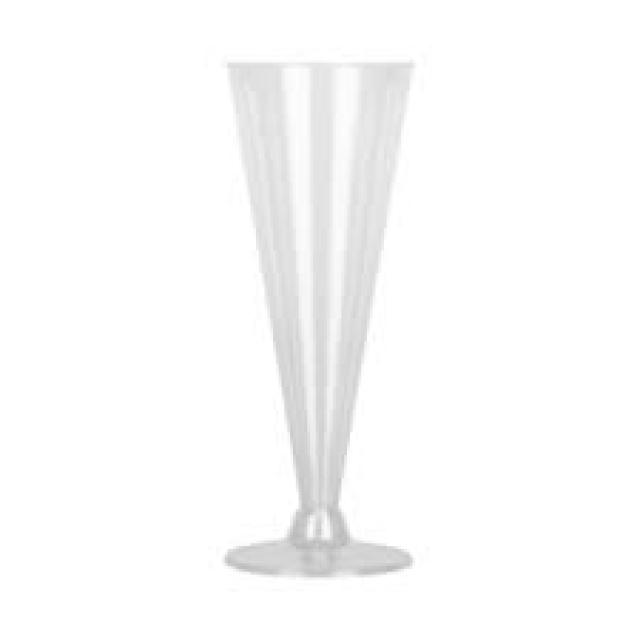glass: (225, 57, 410, 572)
